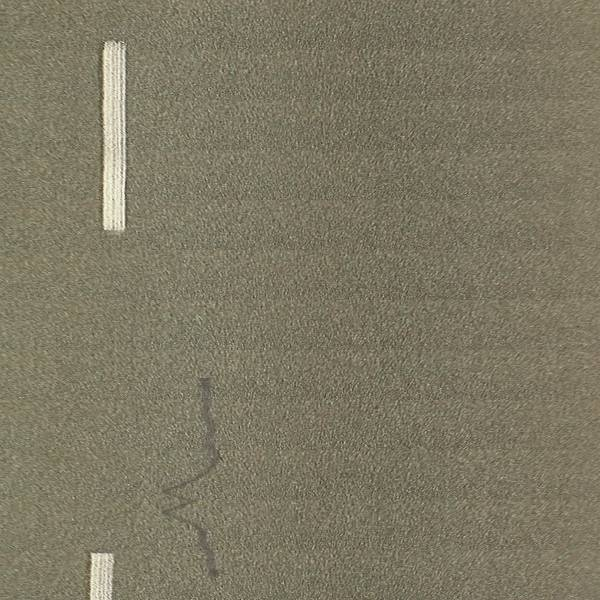road_damage: (156, 370, 229, 584)
